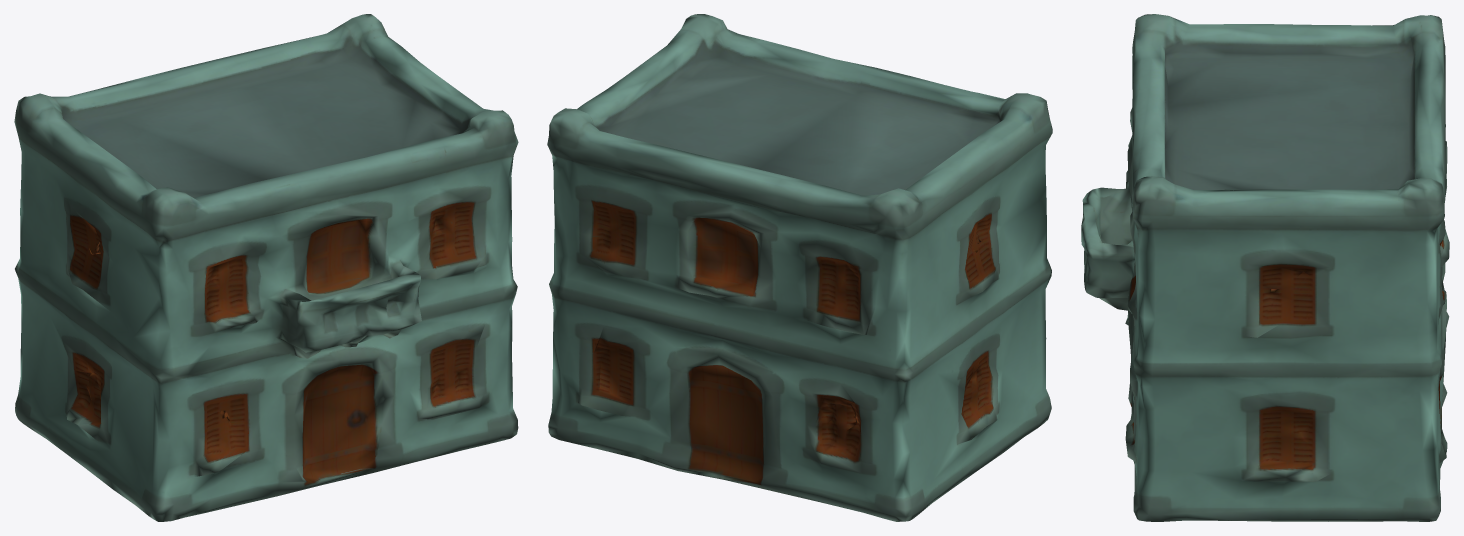
File: house_b.glb
3 views of the same model, side by side, from view 1: azimuth 30°, elevation 25°; view 2: azimuth 150°, elevation 25°; view 3: azimuth 270°, elevation 25° (orthographic). The views are drawn at different scales.
Parts seen in each view (by area): view 1: house_b; view 2: house_b; view 3: house_b.
Part boxes in pixels (bbox=[...]): house_b: bbox=[14, 14, 518, 521]; house_b: bbox=[547, 14, 1052, 521]; house_b: bbox=[1081, 14, 1449, 521].
Bounding box in the file's own units: 5.5 × 4.5 × 4.5.
Materials: 1 (1 with a texture image).
